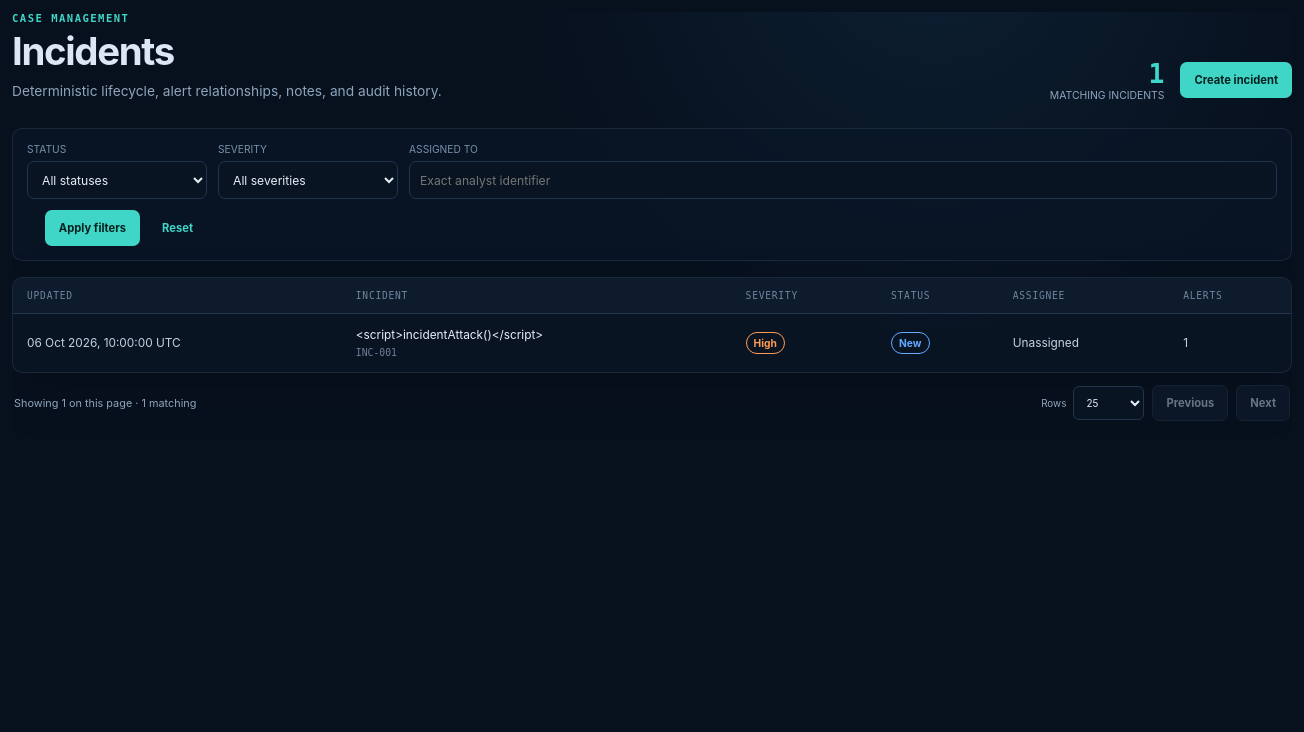
Test: IncidentsPage › renders incident content as inert text and exposes only valid next statuses
This screenshot has width=1304, height=732.
Click the button "<script>incidentAttack()</script>" at {"x": 450, "y": 336}, box left=356, top=328, right=543, bottom=342
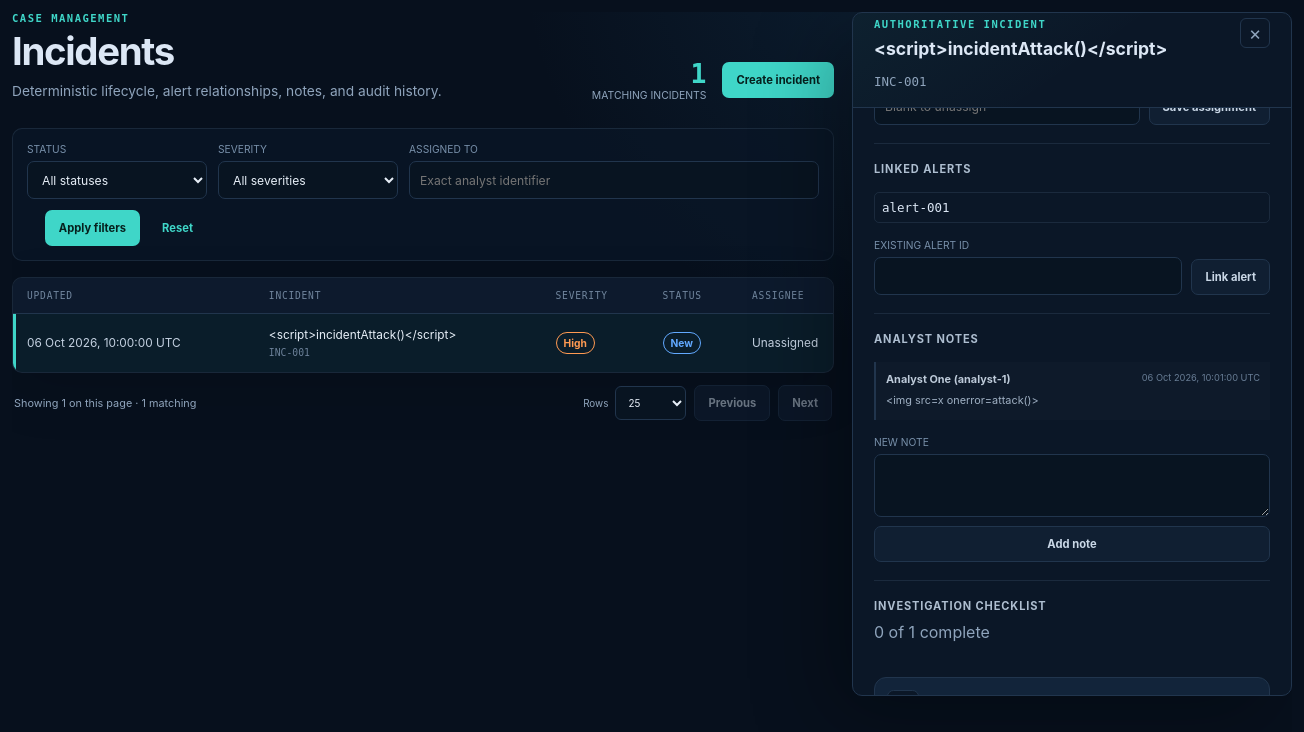
expect the heading "<script>incidentAttack()</script>" is shown: met, box left=874, top=37, right=1167, bottom=62
expect the text "<img src=x onerror=attack()>" is shown: met, box left=886, top=393, right=1039, bottom=407
